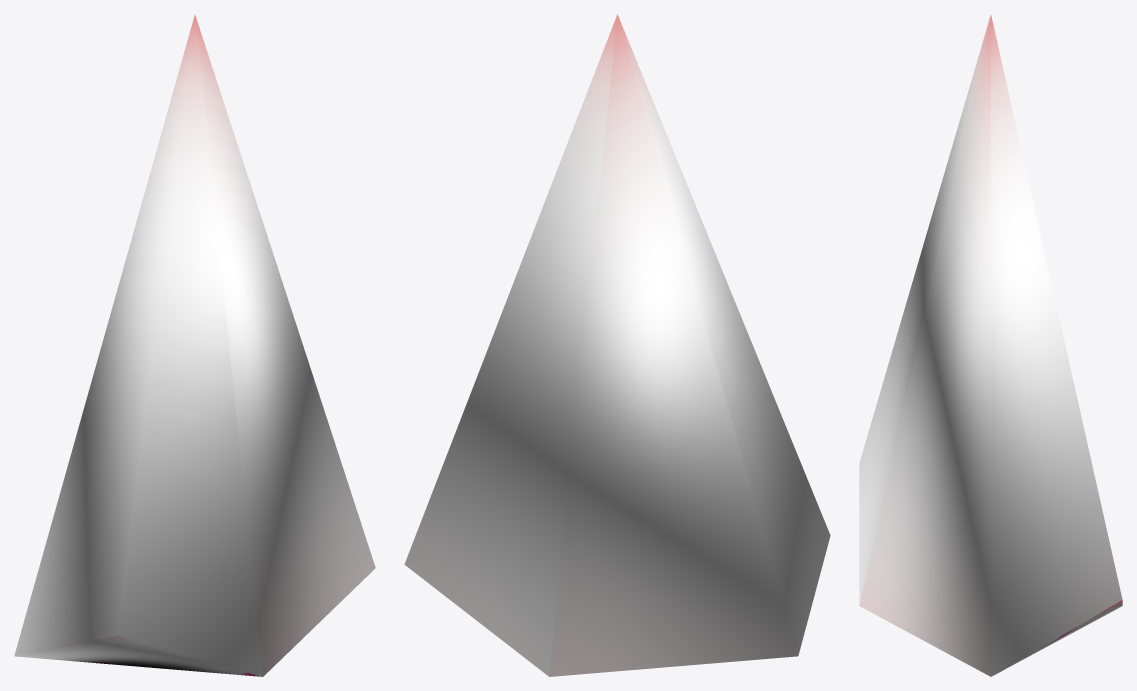
File: Bullet.glb
3 views of the same model, side by side, from view 1: azimuth 30°, elevation 25°; view 2: azimuth 150°, elevation 25°; view 3: azimuth 270°, elevation 25° (orthographic). The views are drawn at different scales.
Parts seen in each view (by area): view 1: Plane; view 2: Plane; view 3: Plane.
Part boxes in pixels (x1,y1,x2,y2): Plane: [14, 15, 375, 676]; Plane: [404, 14, 830, 676]; Plane: [859, 15, 1122, 676].
Size of the model in its own units: 0.2932 by 0.475 by 0.1914.
Materials: 1 (1 with a texture image).
